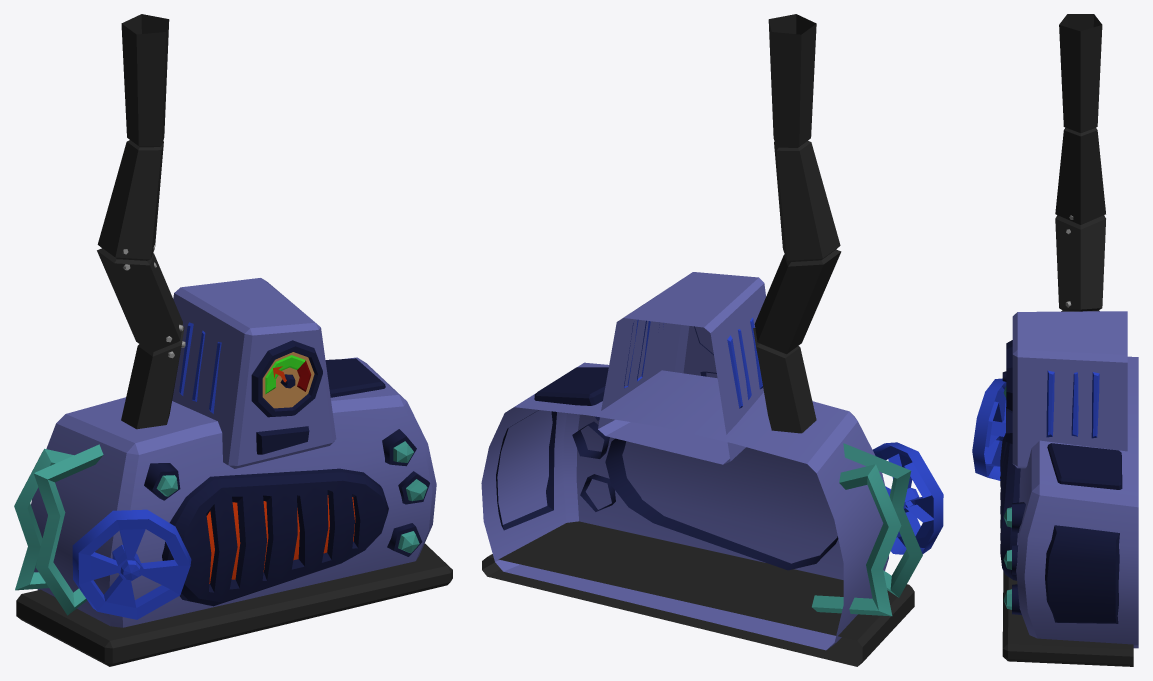
The model's file is MDL_Caldera.FBX.
3 renders of one model, left to right at view 1: azimuth 30°, elevation 25°; view 2: azimuth 150°, elevation 25°; view 3: azimuth 270°, elevation 25°, orthographic. The views are drawn at different scales.
Parts seen in each view (by area): view 1: Box002; view 2: Box002; view 3: Box002.
Part boxes in pixels (x1,y1,x2,y2): Box002: [14, 14, 452, 666]; Box002: [481, 14, 943, 666]; Box002: [972, 14, 1138, 666].
Size of the model in its own units: 115 by 164 by 47.02.
